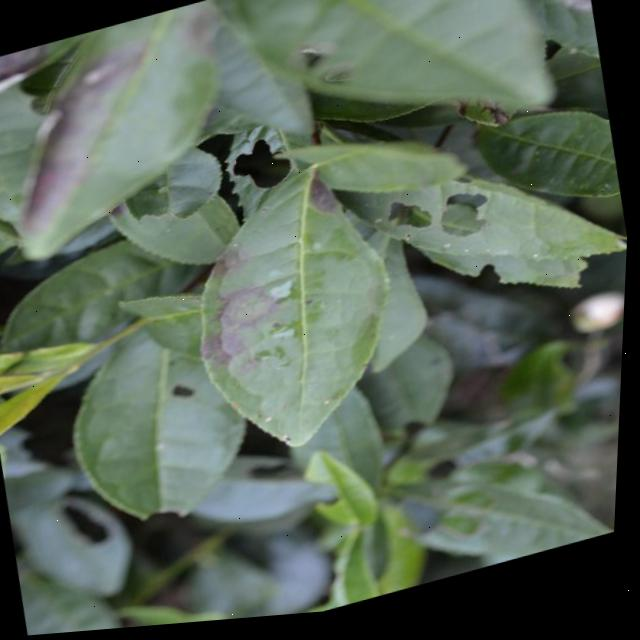Tea exobasidium blight: (171, 206, 312, 406)
